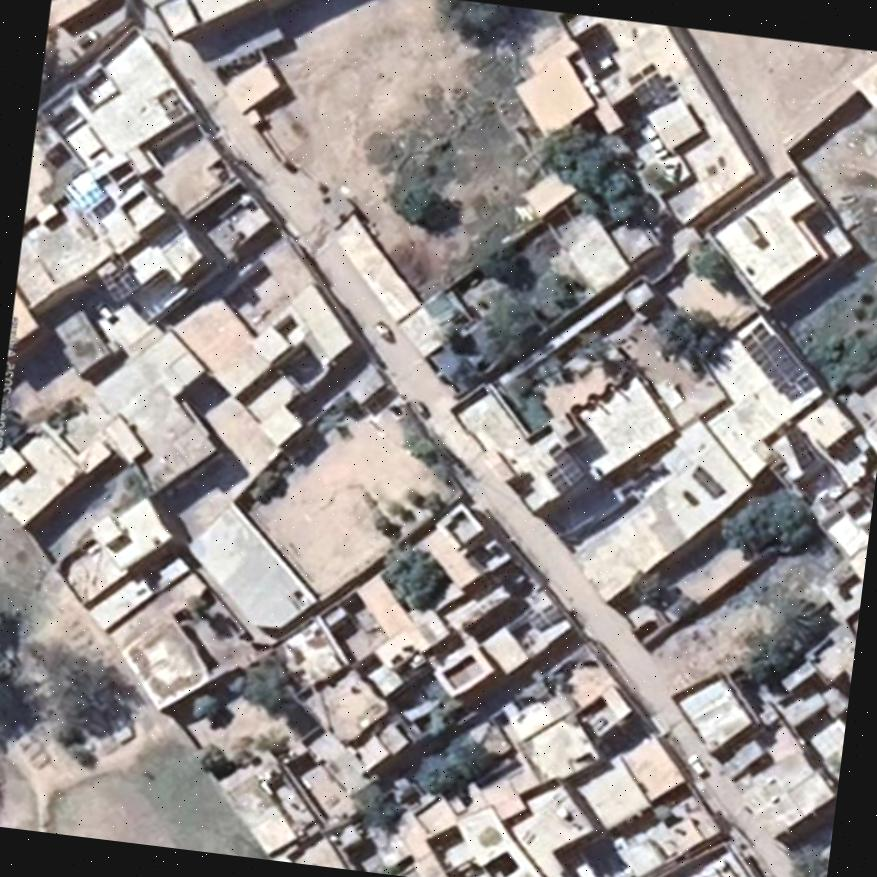Solarpanel: (747, 331, 817, 398), (546, 456, 584, 496)
